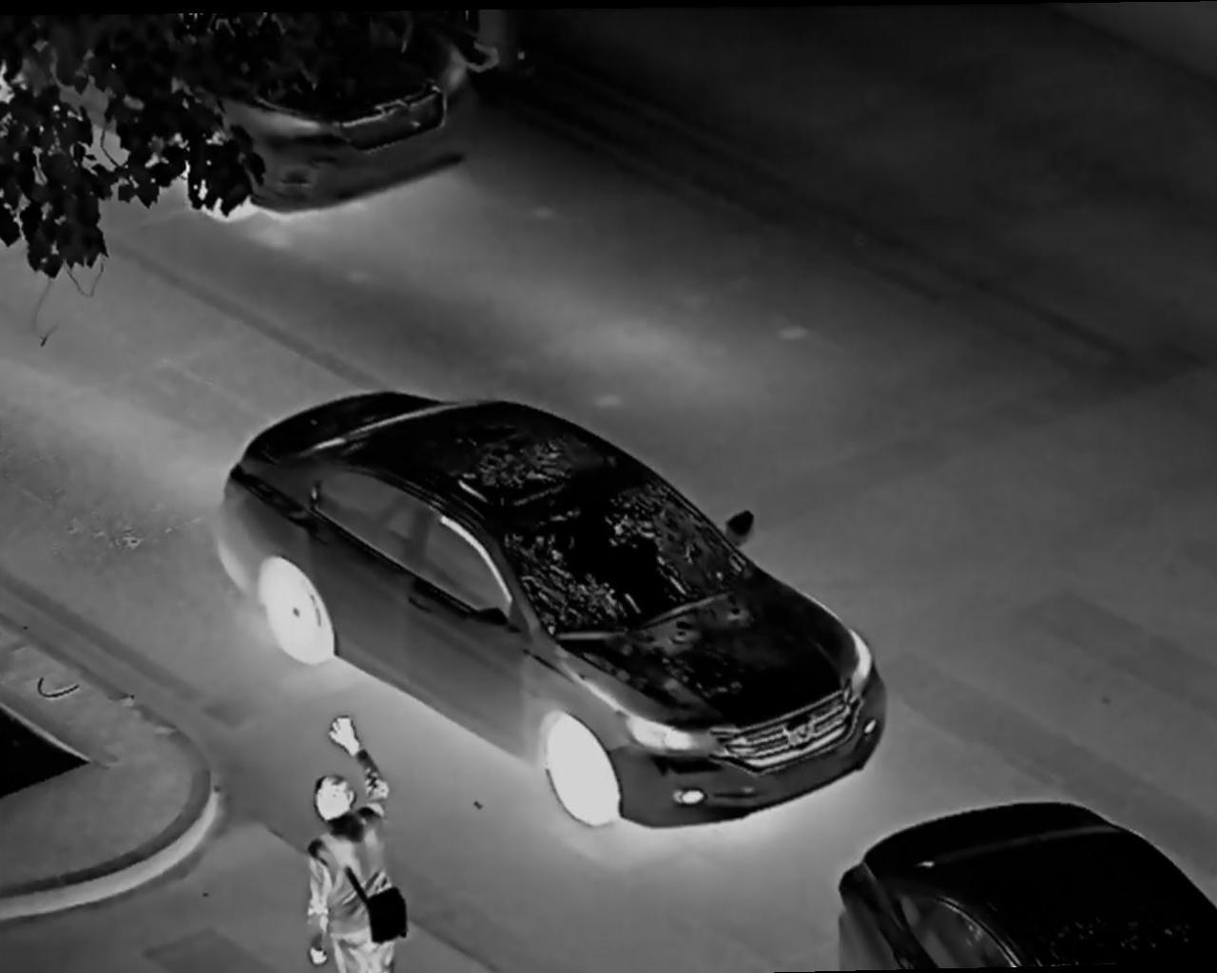person: (301, 704, 400, 973)
